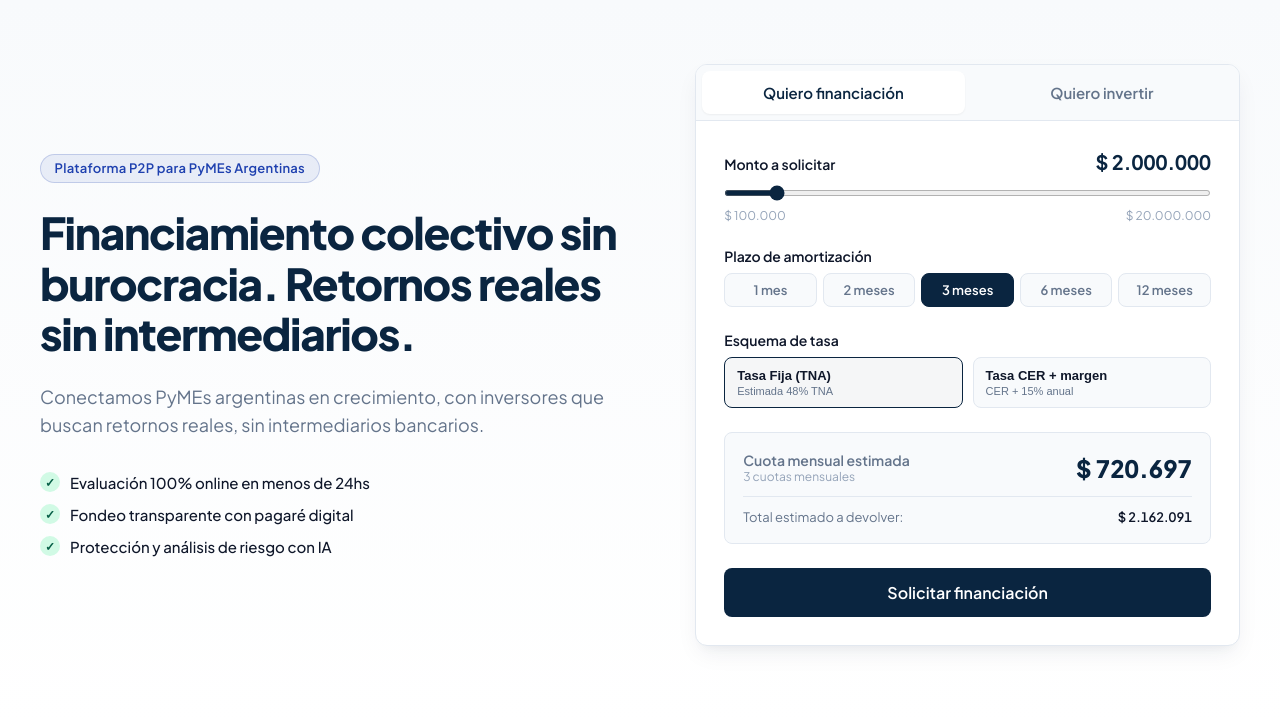
HeroSimulator Component › Borrower Mode › renders all term options (1, 2, 3, 6, 12 months) and updates calculations on term selection
expect the radio button with test id "term-option-1m" is shown: met, box top-left (724, 273), bottom-right (817, 307)
expect the radio button with test id "term-option-2m" is shown: met, box top-left (823, 273), bottom-right (915, 307)
Click 12 months
Click the radio button with test id "term-option-12m".
click(1165, 290)  # box top-left (1118, 273), bottom-right (1211, 307)
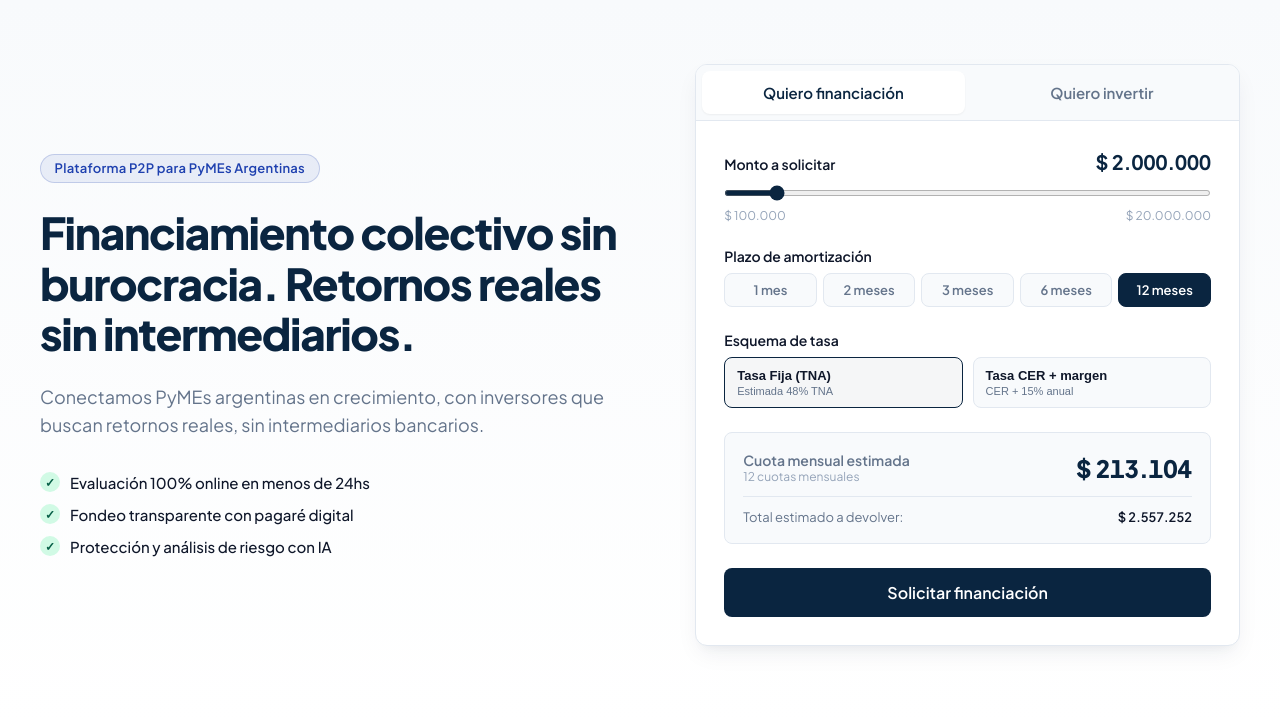
expect the radio button with test id "term-option-12m" is checked: met, box top-left (1118, 273), bottom-right (1211, 307)
Click 1 month
Click the radio button with test id "term-option-1m".
click(770, 290)  # box top-left (724, 273), bottom-right (817, 307)
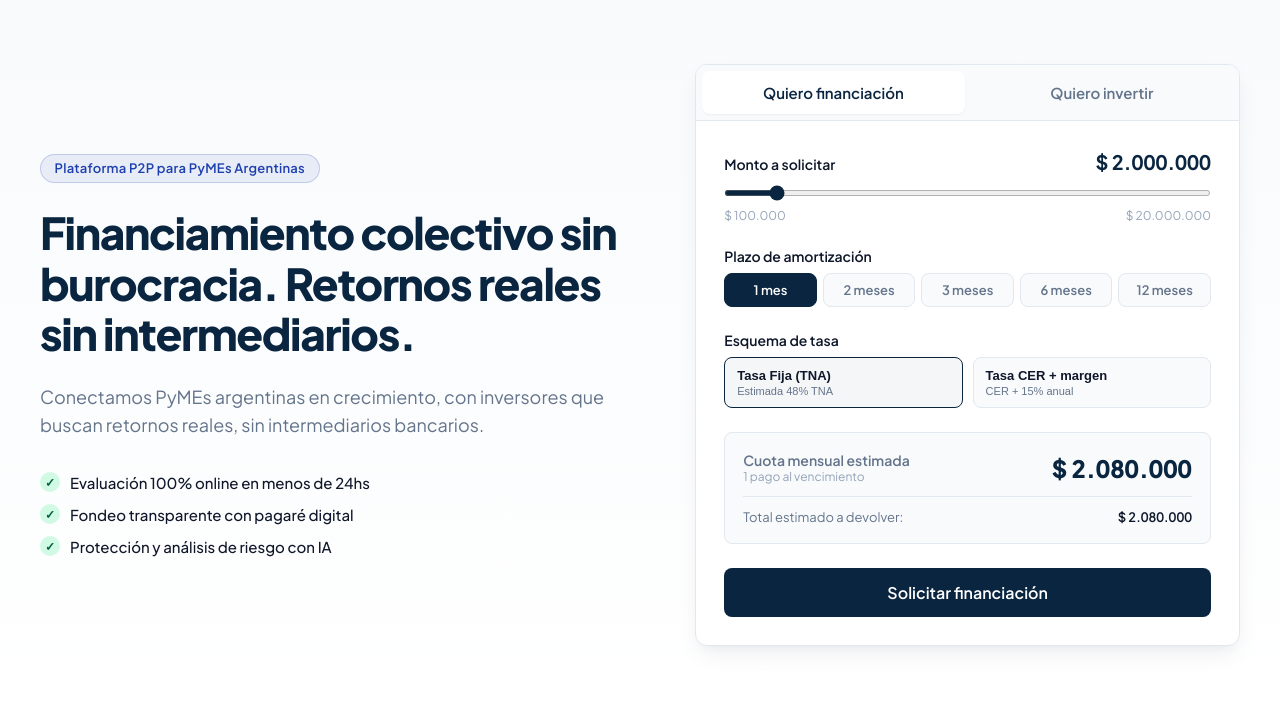
expect the text "1 pago al vencimiento" is shown: met, box top-left (743, 469), bottom-right (864, 484)
